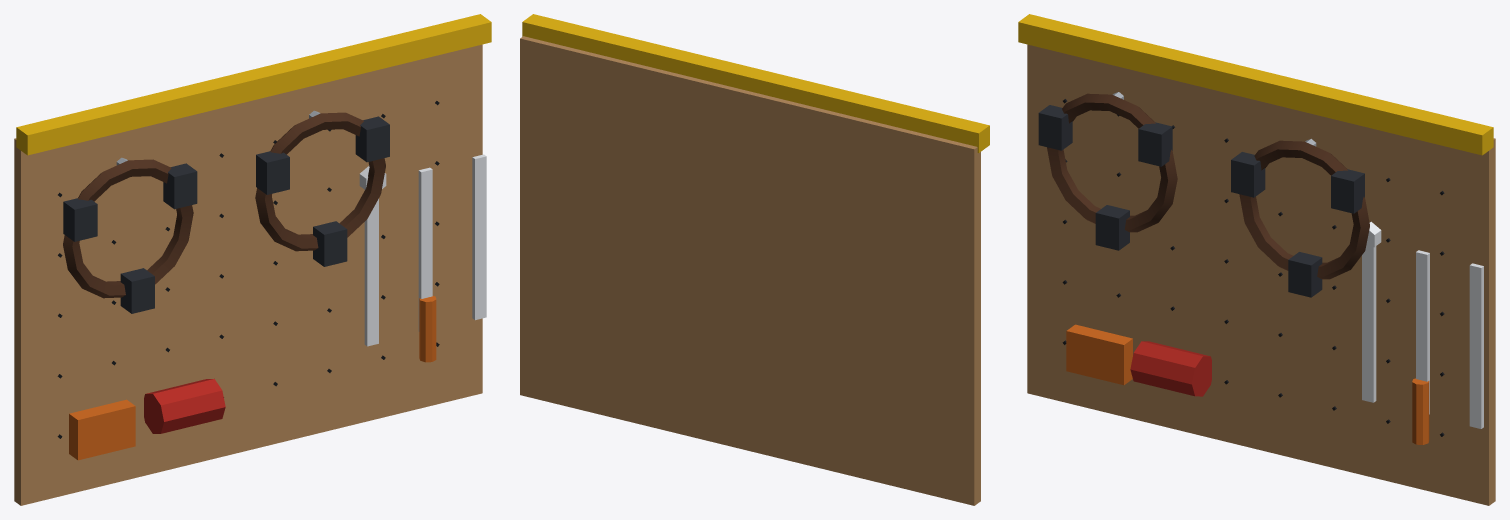
Rendered from suitrack_tool_belt_board.glb.
3 views of the same model, side by side, from view 1: azimuth 30°, elevation 25°; view 2: azimuth 150°, elevation 25°; view 3: azimuth 330°, elevation 25° (orthographic).
Parts seen in each view (by area): view 1: suitrack_tool_belt_board; view 2: suitrack_tool_belt_board; view 3: suitrack_tool_belt_board.
Part boxes in pixels (x1,y1,x2,y2): suitrack_tool_belt_board: [14, 14, 491, 505]; suitrack_tool_belt_board: [520, 14, 989, 505]; suitrack_tool_belt_board: [1018, 14, 1495, 505].
Bounding box in the file's own units: 1.21 × 0.935 × 0.125.
